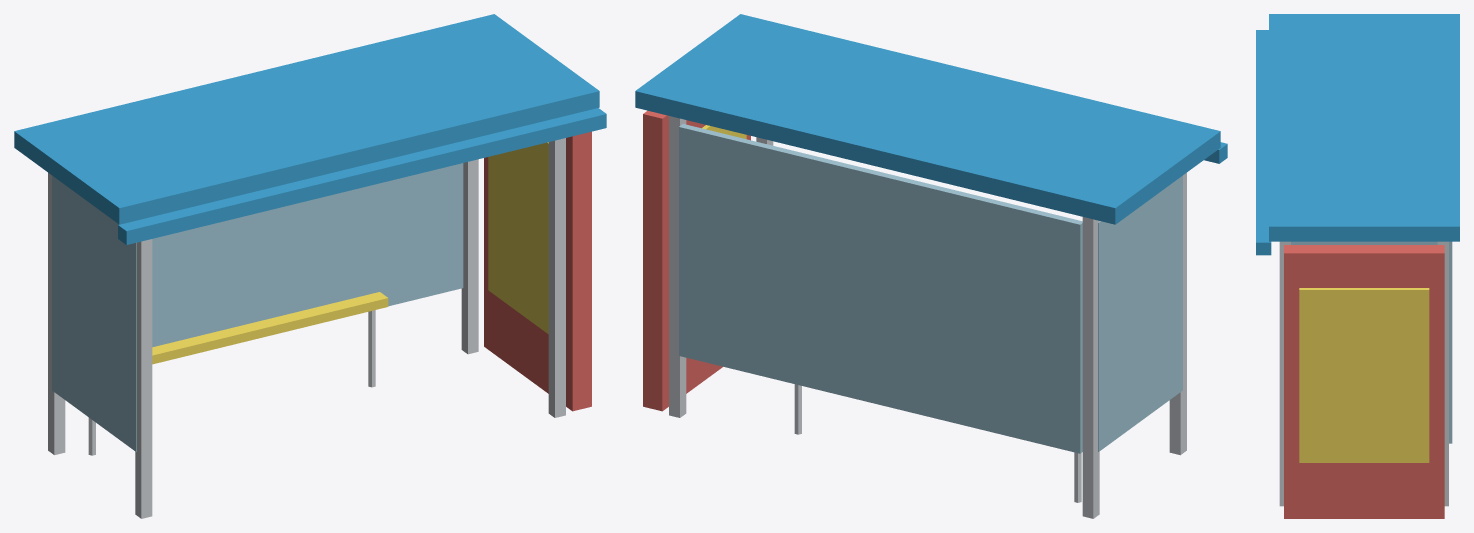
File: packed.glb
3 renders of one model, left to right at view 1: azimuth 30°, elevation 25°; view 2: azimuth 150°, elevation 25°; view 3: azimuth 270°, elevation 25°, orthographic. The views are drawn at different scales.
Visible parts, largest first — view 1: bus-shelter-with-ad-panel-azure, bus-shelter-with-ad-panel-glass, bus-shelter-with-ad-panel-steel, bus-shelter-with-ad-panel-canary, bus-shelter-with-ad-panel-crimson; view 2: bus-shelter-with-ad-panel-glass, bus-shelter-with-ad-panel-azure, bus-shelter-with-ad-panel-steel, bus-shelter-with-ad-panel-crimson; view 3: bus-shelter-with-ad-panel-azure, bus-shelter-with-ad-panel-canary, bus-shelter-with-ad-panel-crimson, bus-shelter-with-ad-panel-steel, bus-shelter-with-ad-panel-glass.
Boxes of the visible parts, x1,y1,x2,y2 form: bus-shelter-with-ad-panel-azure: (14,14,606,244); bus-shelter-with-ad-panel-glass: (52,163,463,451); bus-shelter-with-ad-panel-steel: (48,138,565,518); bus-shelter-with-ad-panel-canary: (152,142,548,364); bus-shelter-with-ad-panel-crimson: (484,131,591,411); bus-shelter-with-ad-panel-glass: (679,124,1182,453); bus-shelter-with-ad-panel-azure: (635,14,1227,224); bus-shelter-with-ad-panel-steel: (669,116,1186,518); bus-shelter-with-ad-panel-crimson: (643,110,750,411); bus-shelter-with-ad-panel-azure: (1256,14,1459,255); bus-shelter-with-ad-panel-canary: (1299,288,1429,462); bus-shelter-with-ad-panel-crimson: (1284,245,1444,518); bus-shelter-with-ad-panel-steel: (1279,241,1448,506); bus-shelter-with-ad-panel-glass: (1291,241,1452,443).
Size of the model in its own units: 3.99 by 2.53 by 1.6.
